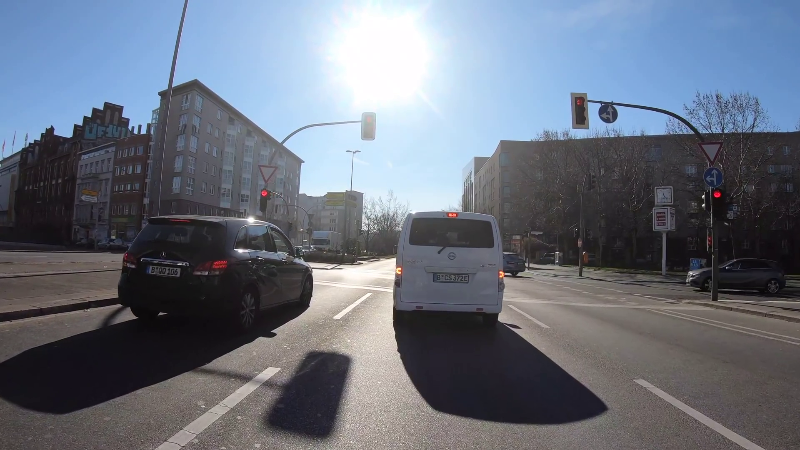Plate: (144, 264, 179, 279), (431, 271, 470, 284)
